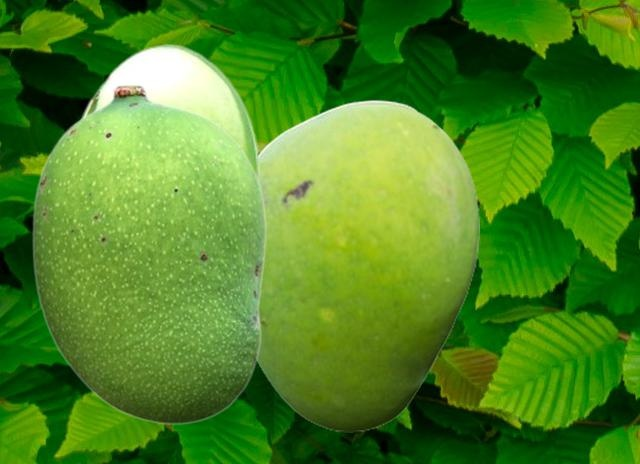green_mango: (31, 83, 265, 424), (257, 99, 478, 431), (77, 43, 258, 175)
